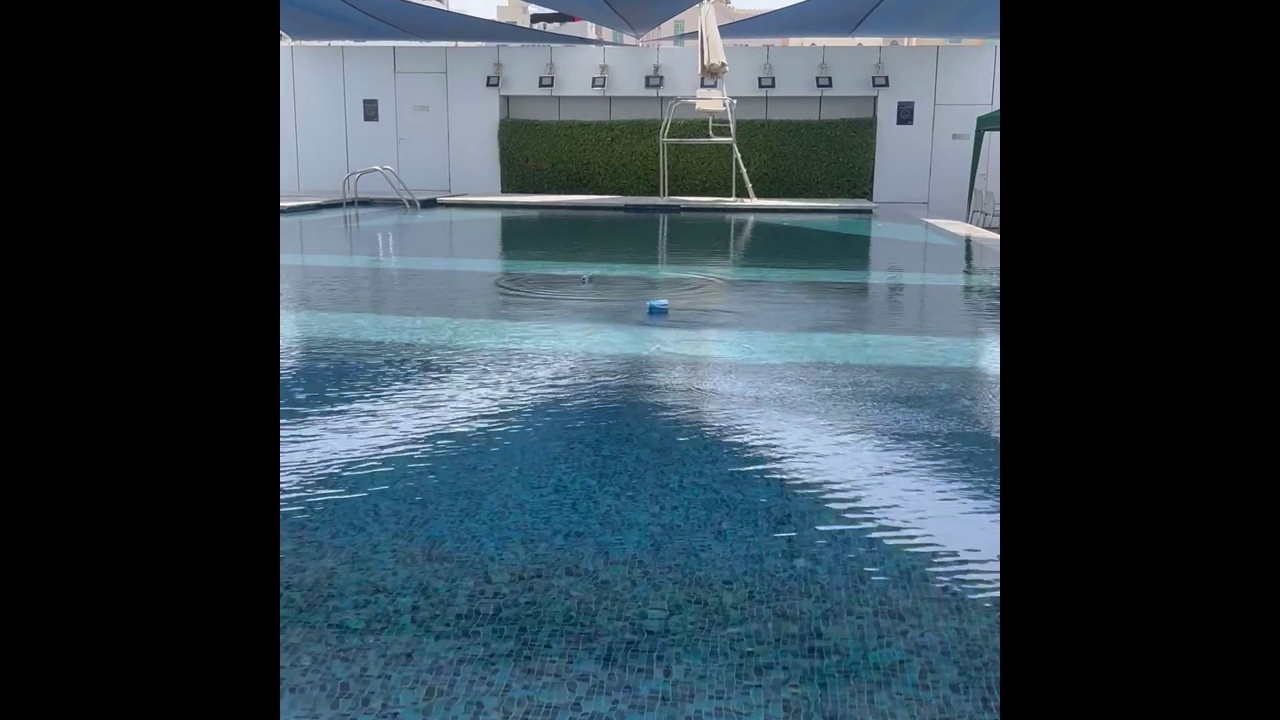debris: (643, 297, 671, 314), (578, 269, 595, 286)
